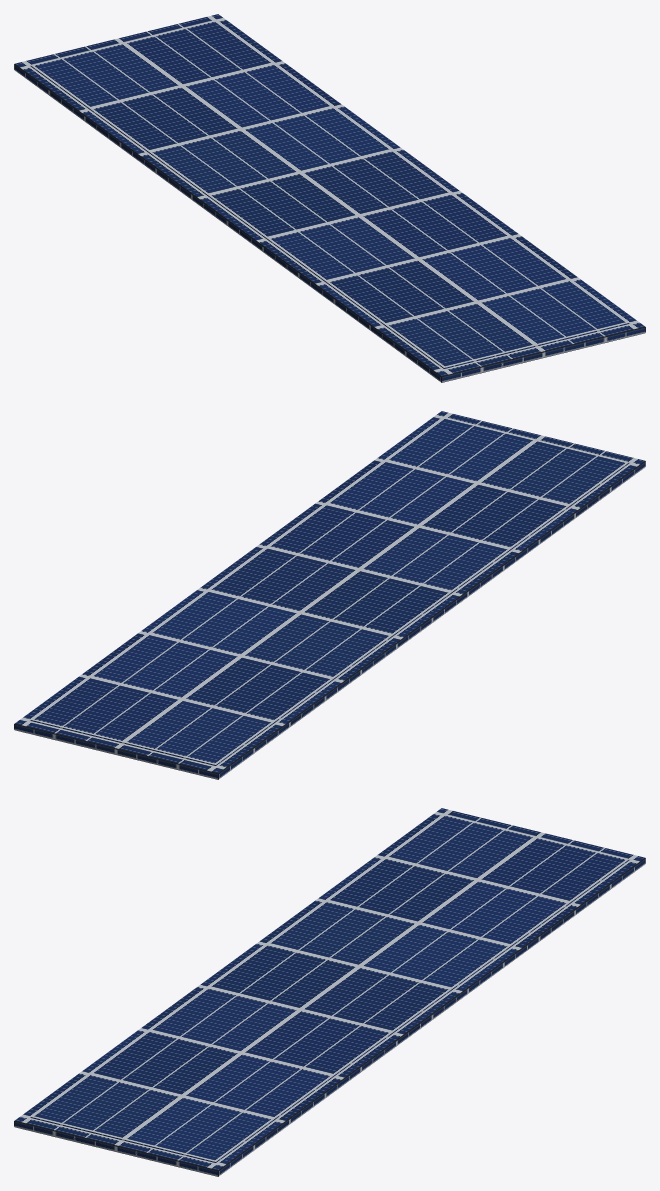
The model's file is pwr_gomspace_p31u.glb.
The picture shows the model from 3 angles, top to bottom: view 1: azimuth 30°, elevation 25°; view 2: azimuth 150°, elevation 25°; view 3: azimuth 330°, elevation 25°; orthographic projection.
Visible parts, largest first — view 1: pwr_gomspace_p31u; view 2: pwr_gomspace_p31u; view 3: pwr_gomspace_p31u.
Boxes of the visible parts, bbox=[...] form: pwr_gomspace_p31u: bbox=[14, 14, 645, 382]; pwr_gomspace_p31u: bbox=[14, 411, 645, 779]; pwr_gomspace_p31u: bbox=[14, 808, 645, 1176].
Size of the model in its own units: 0.083 by 0.003 by 0.3.
Materials: 2 (1 with a texture image).
